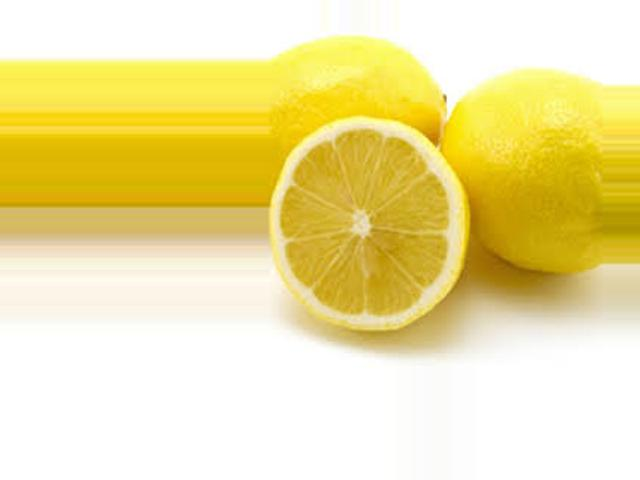lemon: (268, 43, 474, 205)
